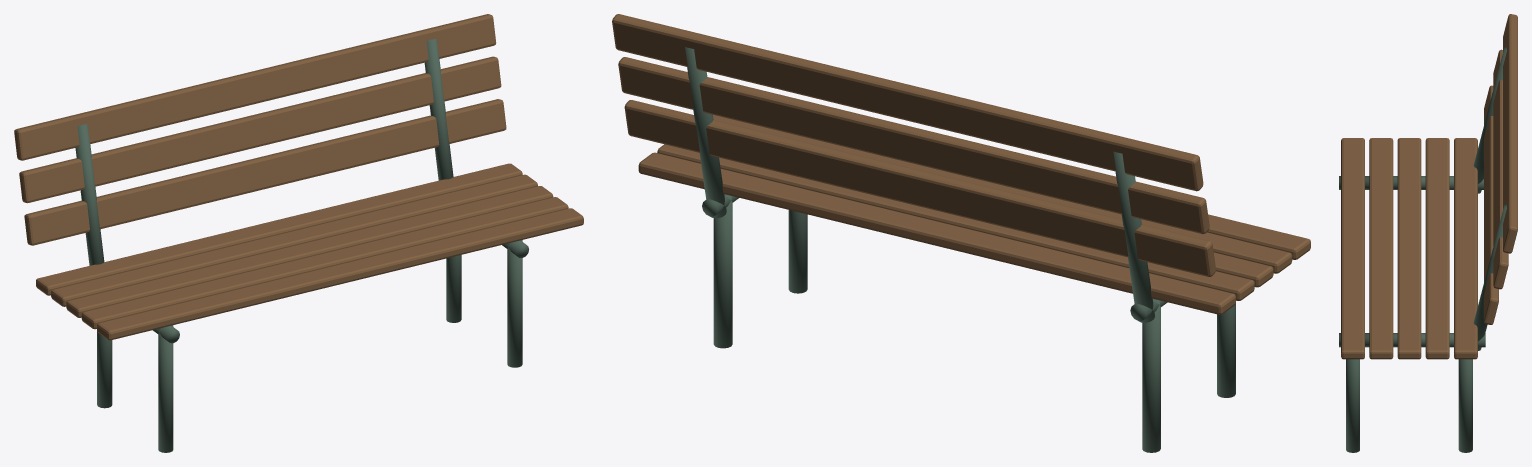
The model's file is SM_District_Bench_180cm.fbx.
3 views of the same model, side by side, from view 1: azimuth 30°, elevation 25°; view 2: azimuth 150°, elevation 25°; view 3: azimuth 270°, elevation 25° (orthographic). The views are drawn at different scales.
Visible parts, largest first — view 1: SM_District_Bench_180cm; view 2: SM_District_Bench_180cm; view 3: SM_District_Bench_180cm.
Boxes of the visible parts, box(x1,y1,x2,y2) form: SM_District_Bench_180cm: box(14, 14, 583, 452); SM_District_Bench_180cm: box(612, 14, 1310, 452); SM_District_Bench_180cm: box(1339, 14, 1517, 452).
Size of the model in its own units: 180 by 63.48 by 98.31.
